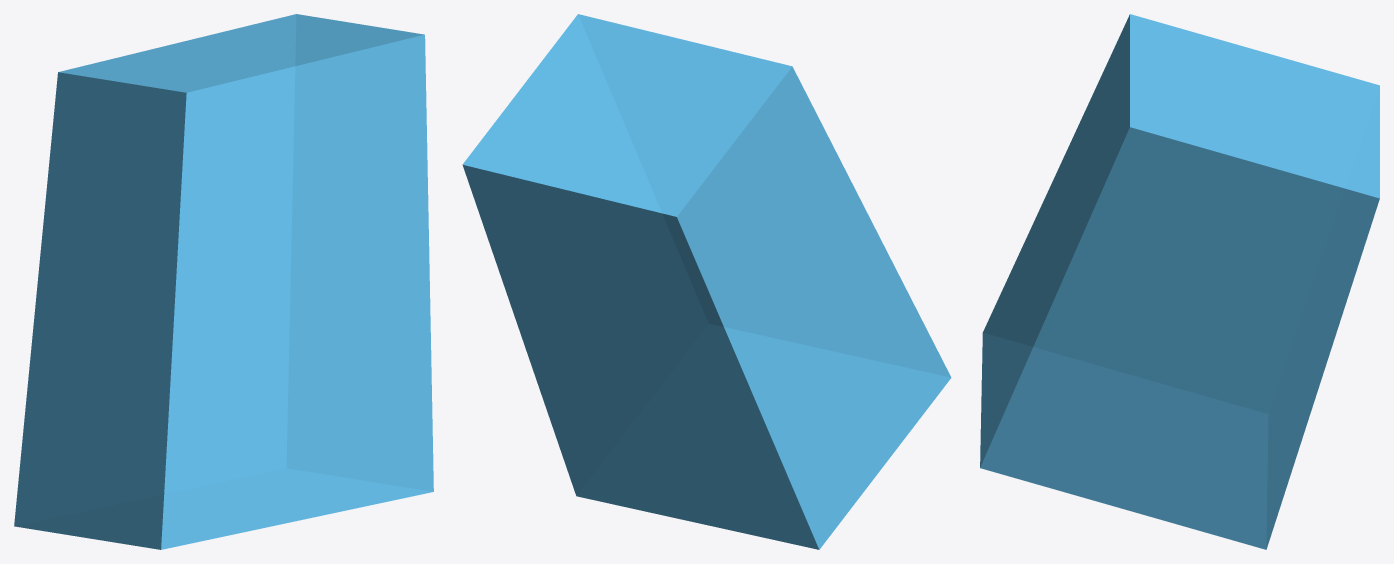
Rendered from Event_420604493_HBrechit_8.fbx.
3 views of the same model, side by side, from view 1: azimuth 30°, elevation 25°; view 2: azimuth 150°, elevation 25°; view 3: azimuth 270°, elevation 25° (orthographic). The views are drawn at different scales.
Visible parts, largest first — view 1: Model; view 2: Model; view 3: Model.
Part boxes in pixels (bbox=[...]): Model: bbox=[14, 14, 433, 549]; Model: bbox=[462, 14, 951, 549]; Model: bbox=[980, 14, 1379, 549].
Size of the model in its own units: 0.5843 by 0.7698 by 0.6129.
